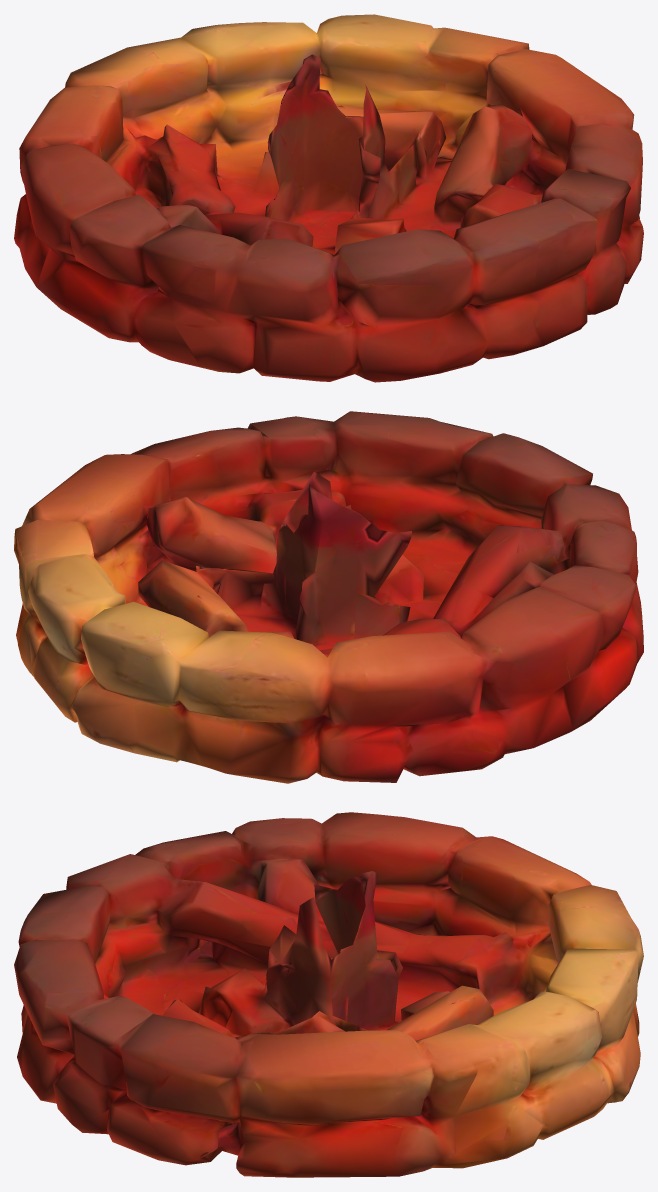
Rendered from fire-pit.glb.
3 views of the same model, one above another, from view 1: azimuth 30°, elevation 25°; view 2: azimuth 150°, elevation 25°; view 3: azimuth 270°, elevation 25° (orthographic).
Size of the model in its own units: 1.99 by 0.7005 by 2.
Materials: 1 (1 with a texture image).
